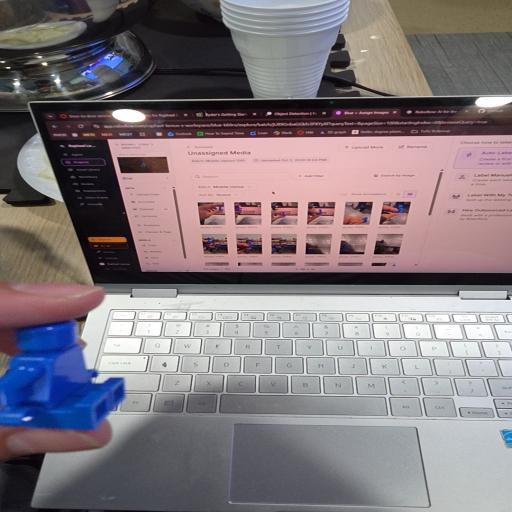Blue: (0, 321, 123, 429)
